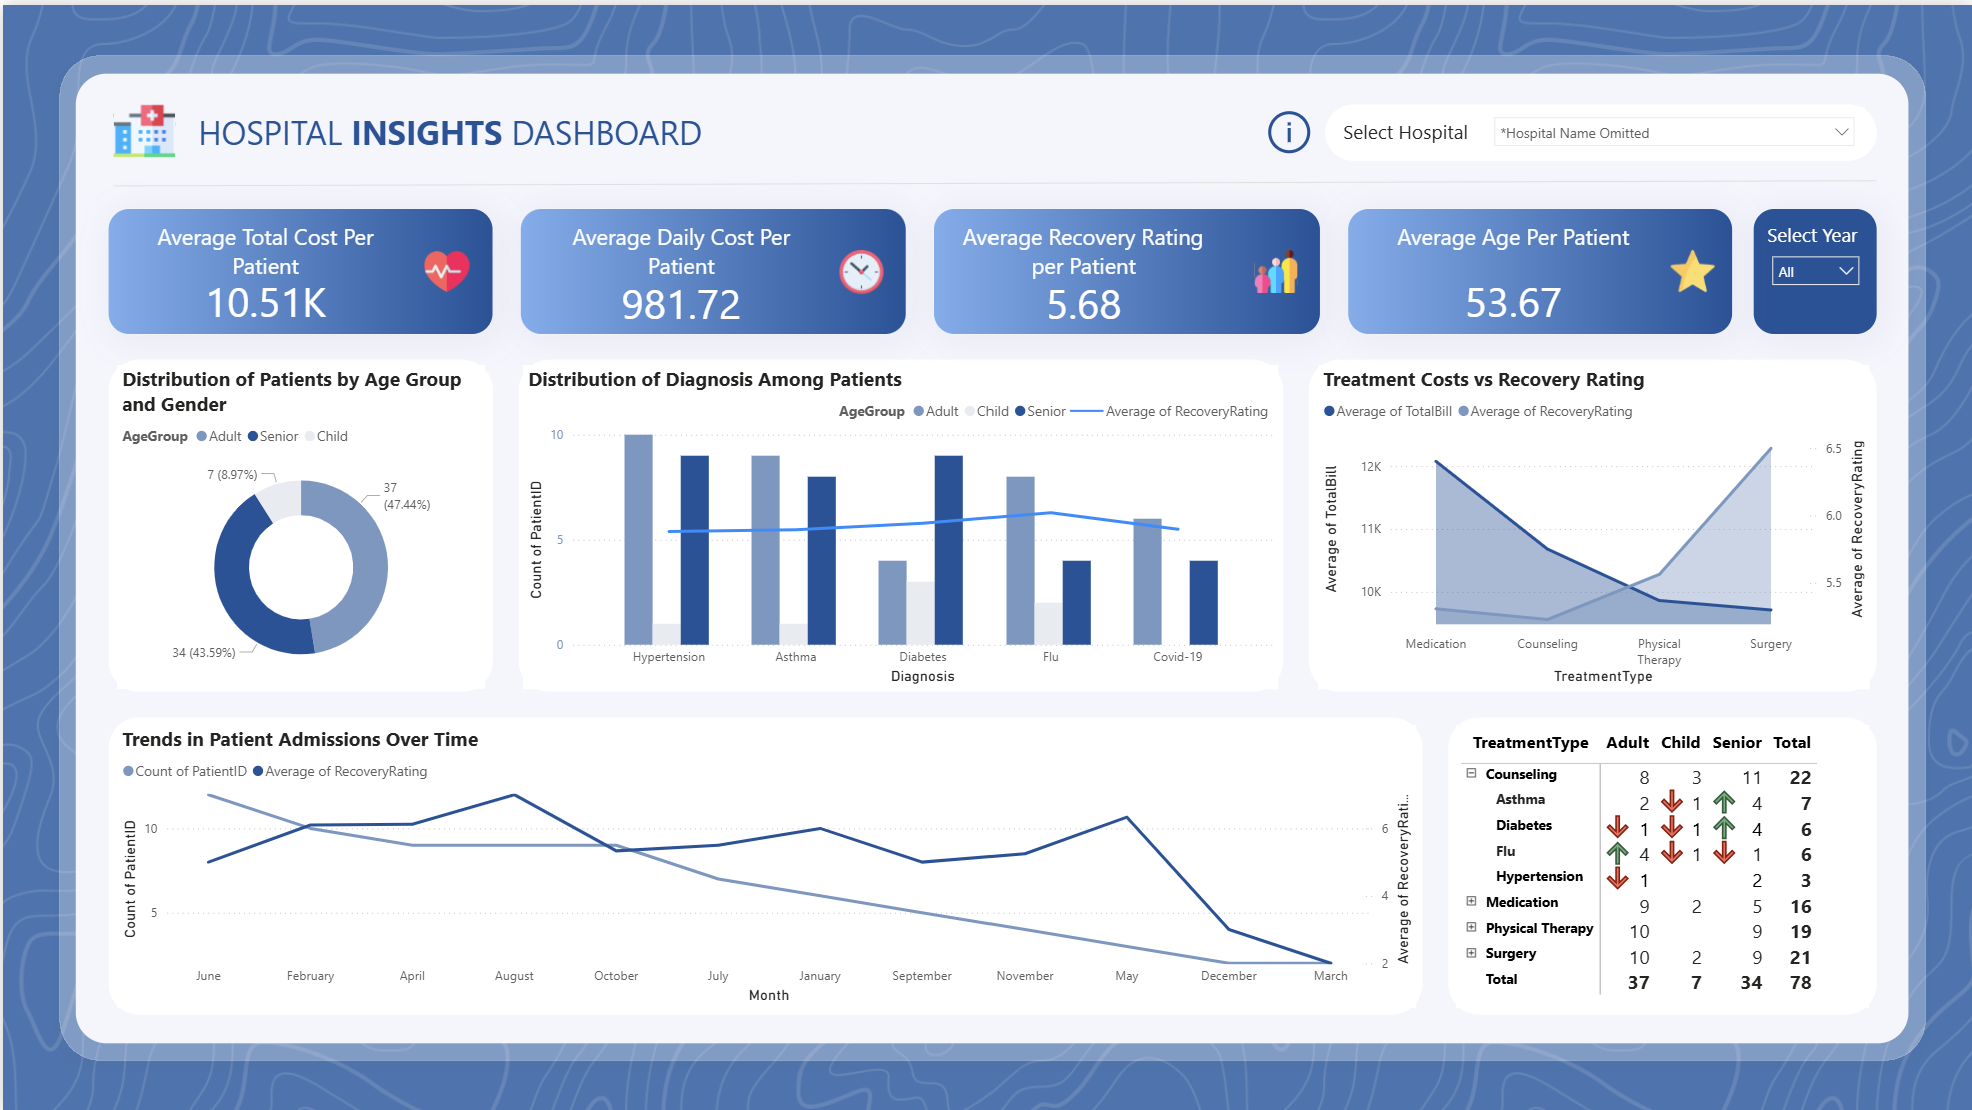

Layout of this report page (visuals, bound fields, positions):
{"tool":"powerbi","page":{"name":"Hospital Insights Dahboard","canvas":[1920,1080],"ordinal":0},"visuals":[{"type":"textbox","box":[185.9,97.4,670,71.9],"z":1000},{"type":"donutChart","title":"Distribution of Patients by Age Group and Gender","fields":{"Category":["Sheet1.AgeGroup"],"Y":["CountNonNull(Sheet1.Age)"]},"box":[110.3,351.2,359.2,316.2],"z":3000},{"type":"lineClusteredColumnComboChart","title":"Distribution of Diagnosis Among Patients","fields":{"Category":["Sheet1.Diagnosis"],"Y":["CountNonNull(Sheet1.PatientID)"],"Y2":["Avg(Sheet1 (2).RecoveryRating)"],"Series":["Sheet1.AgeGroup"]},"box":[508.1,350.7,735.9,316.3],"z":4000},{"type":"areaChart","title":"Treatment Costs vs Recovery Rating","fields":{"Category":["Sheet1 (2).TreatmentType"],"Y":["Avg(Sheet1.TotalBill)"],"Y2":["Avg(Sheet1 (2).RecoveryRating)"]},"box":[1281.5,350.7,538.1,316.3],"z":5000},{"type":"pivotTable","fields":{"Rows":["Sheet1 (2).TreatmentType","Sheet1.Diagnosis"],"Columns":["Sheet1.AgeGroup"],"Values":["CountNonNull(Sheet1.PatientID)"]},"box":[1416.4,703,403.2,275.8],"z":6000},{"type":"lineChart","title":"Trends in Patient Admissions Over Time","fields":{"Y":["CountNonNull(Sheet1.PatientID)"],"Category":["Sheet1.Month"],"Y2":["Avg(Sheet1 (2).RecoveryRating)"]},"box":[110.9,703,1266.5,275.8],"z":7000},{"type":"card","title":"Average Total Cost Per Patient","fields":{"Values":["Avg(Sheet1.TotalBill)"]},"box":[139.4,211.3,235.3,101.9],"z":8000},{"type":"card","title":"Average Daily Cost Per Patient","fields":{"Values":["Avg(Sheet1 (2).DailyCost)"]},"box":[545.6,211.3,230.8,101.9],"z":9000},{"type":"card","title":"Average Recovery Rating per Patient","fields":{"Values":["Avg(Sheet1 (2).RecoveryRating)"]},"box":[923.3,211.3,260.8,101.9],"z":10000},{"type":"card","title":"Average Age Per Patient","fields":{"Values":["Avg(Sheet1.Age)"]},"box":[1353.4,211.3,236.8,125.9],"z":11000},{"type":"slicer","title":"Select Hospital","fields":{"Values":["Sheet1 (2).Hospital"]},"box":[1443.4,100.4,371.7,46.5],"z":12000},{"type":"slicer","title":"Select Year","fields":{"Values":["Sheet1.Year"]},"box":[1714.7,211.3,104.9,71.9],"z":13000},{"type":"textbox","box":[1301,104.9,142.4,39],"z":14000},{"type":"actionButton","box":[1227.8,97.4,54,53.1],"z":17000},{"type":"card","fields":{"Values":["Sum(Sheet1.Age)"]},"box":[1227.8,101.8,54,46],"z":17500}]}

Visuals, with their boxes in screenshot pixels (x1, y1, x2, y2), scaled from the page's 1920x1080 canvas onto the 1972x1110 screenshot:
textbox: (left=191, top=100, right=879, bottom=174)
"Distribution of Patients by Age Group and Gender" donutChart: (left=113, top=361, right=482, bottom=686)
"Distribution of Diagnosis Among Patients" lineClusteredColumnComboChart: (left=522, top=360, right=1278, bottom=686)
"Treatment Costs vs Recovery Rating" areaChart: (left=1316, top=360, right=1869, bottom=686)
pivotTable - Sheet1 (2).TreatmentType x Sheet1.Diagnosis: (left=1455, top=723, right=1869, bottom=1006)
"Trends in Patient Admissions Over Time" lineChart: (left=114, top=723, right=1415, bottom=1006)
"Average Total Cost Per Patient" card: (left=143, top=217, right=385, bottom=322)
"Average Daily Cost Per Patient" card: (left=560, top=217, right=797, bottom=322)
"Average Recovery Rating per Patient" card: (left=948, top=217, right=1216, bottom=322)
"Average Age Per Patient" card: (left=1390, top=217, right=1633, bottom=347)
"Select Hospital" slicer: (left=1482, top=103, right=1864, bottom=151)
"Select Year" slicer: (left=1761, top=217, right=1869, bottom=291)
textbox: (left=1336, top=108, right=1482, bottom=148)
actionButton: (left=1261, top=100, right=1317, bottom=155)
card - Sum(Sheet1.Age): (left=1261, top=105, right=1317, bottom=152)
